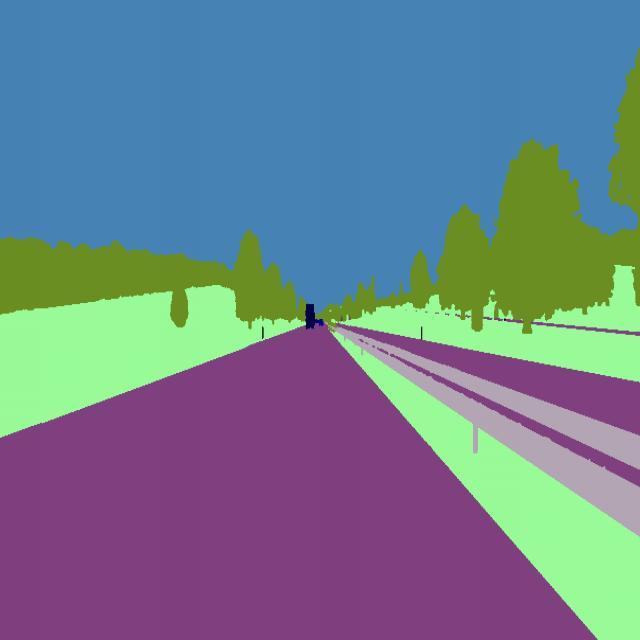safe: (304, 301, 318, 332), (315, 316, 326, 330)
